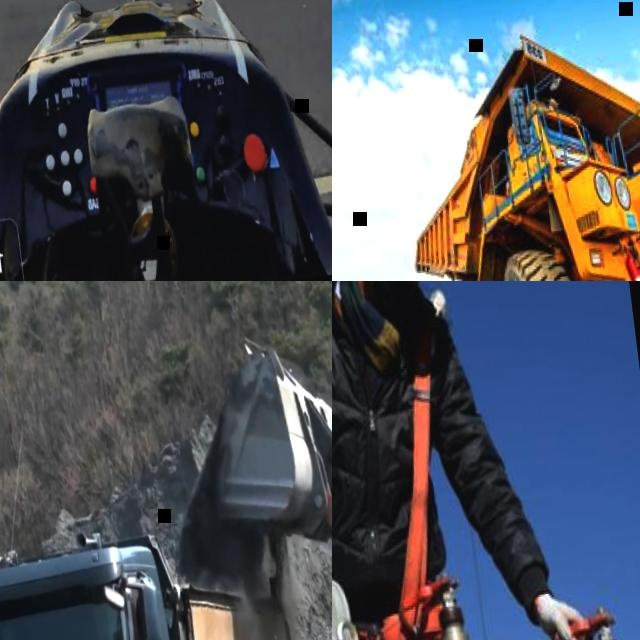Mask: (362, 281, 415, 326)
NO-Hardhat: (0, 620, 16, 638)
NO-Safety Vest: (332, 281, 442, 614)
Person: (332, 281, 602, 640), (0, 618, 25, 640)
machinery: (386, 0, 640, 281), (188, 301, 332, 640), (0, 497, 306, 640)
vehicle: (0, 0, 332, 281)
